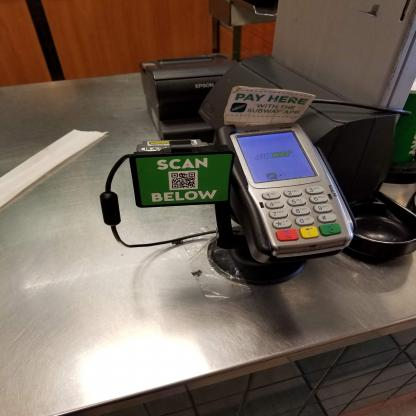qr: (169, 167, 199, 189)
